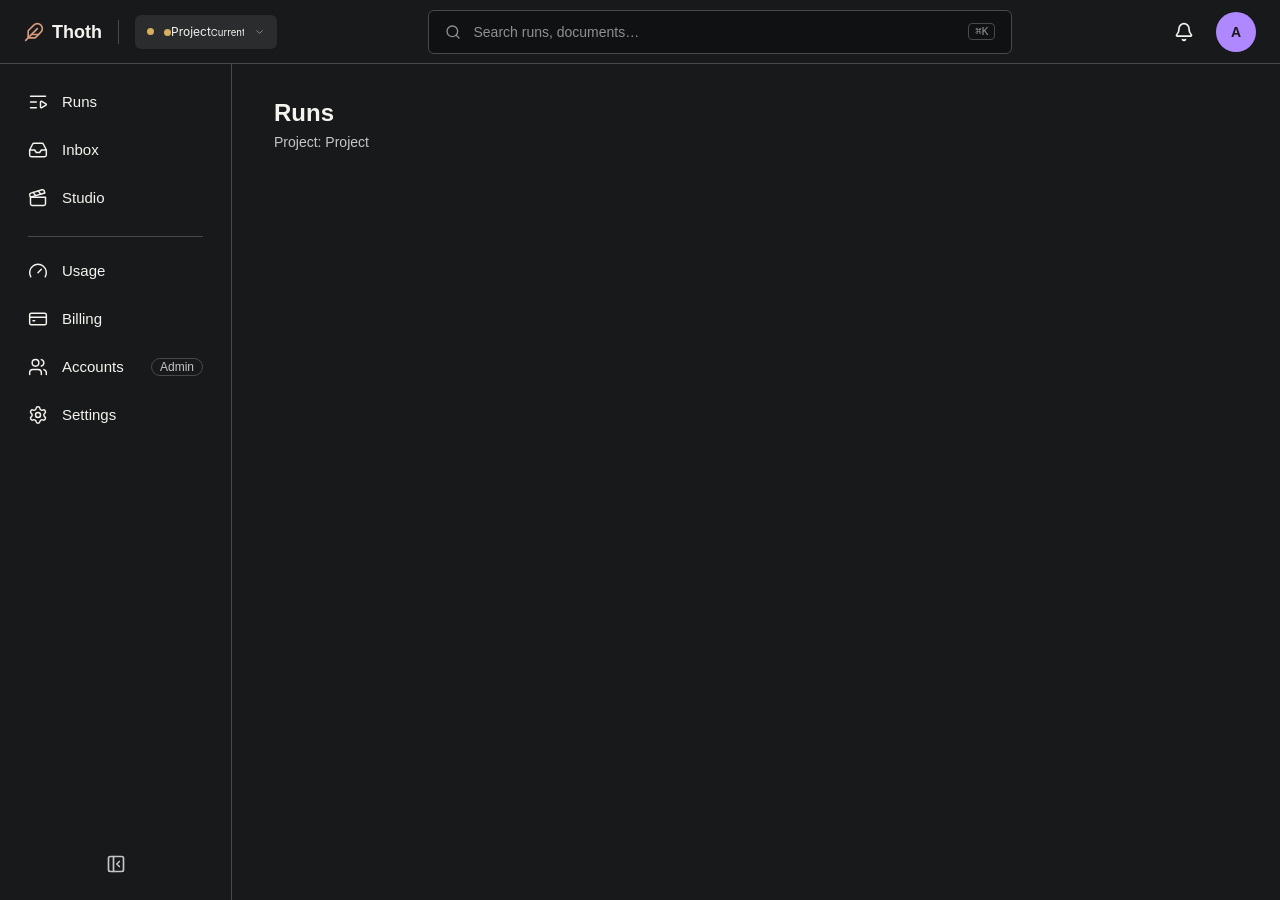
no page reaches the retired Rust server: only control-plane routes are requested
This screenshot has width=1280, height=900.
Click the link "Studio". click: (66, 198)
box: [28, 188, 104, 208]
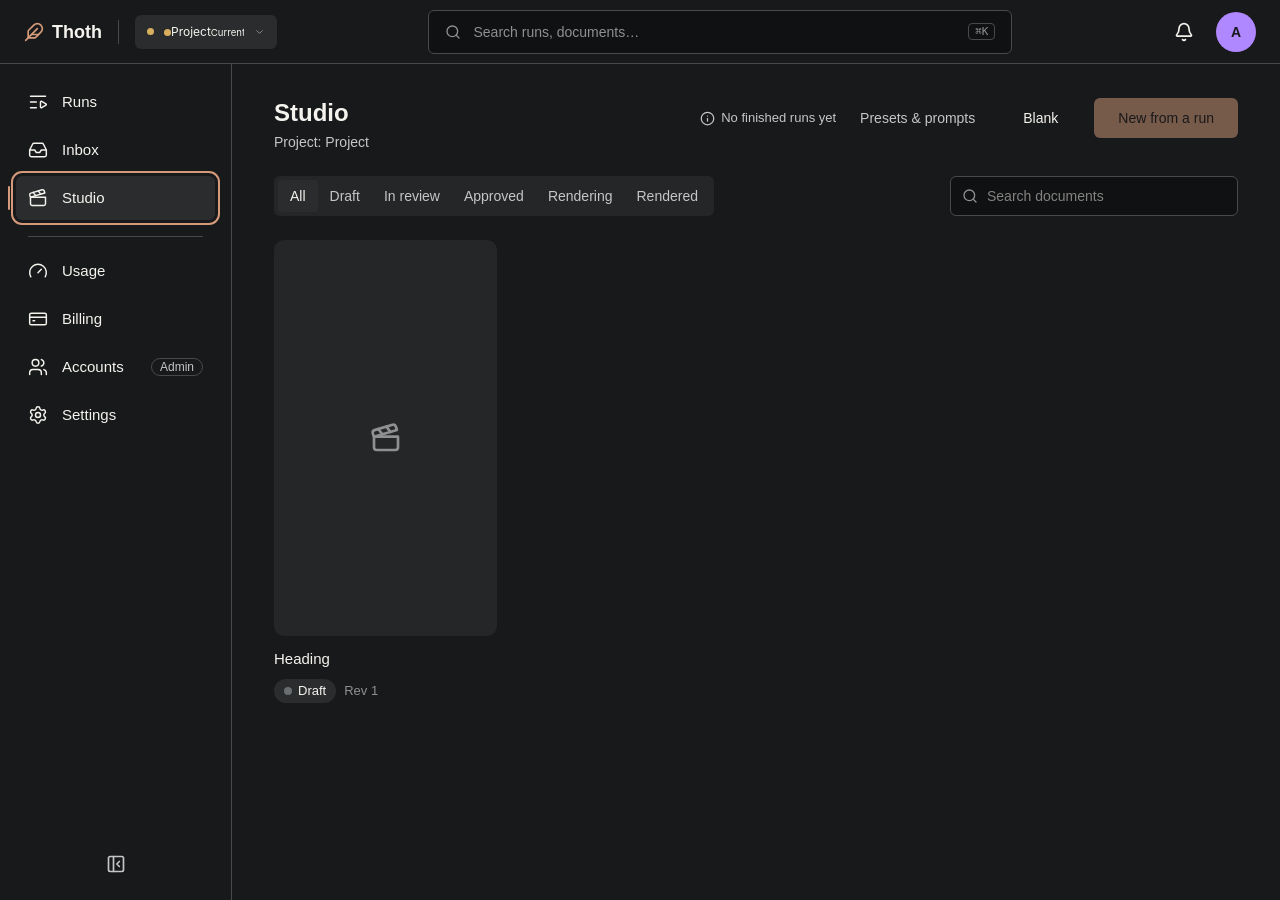
Expected: the link "Heading Draft Rev 1" is shown, [274, 240, 497, 703]
Click the link "Runs". click: (62, 102)
box: [28, 92, 97, 112]
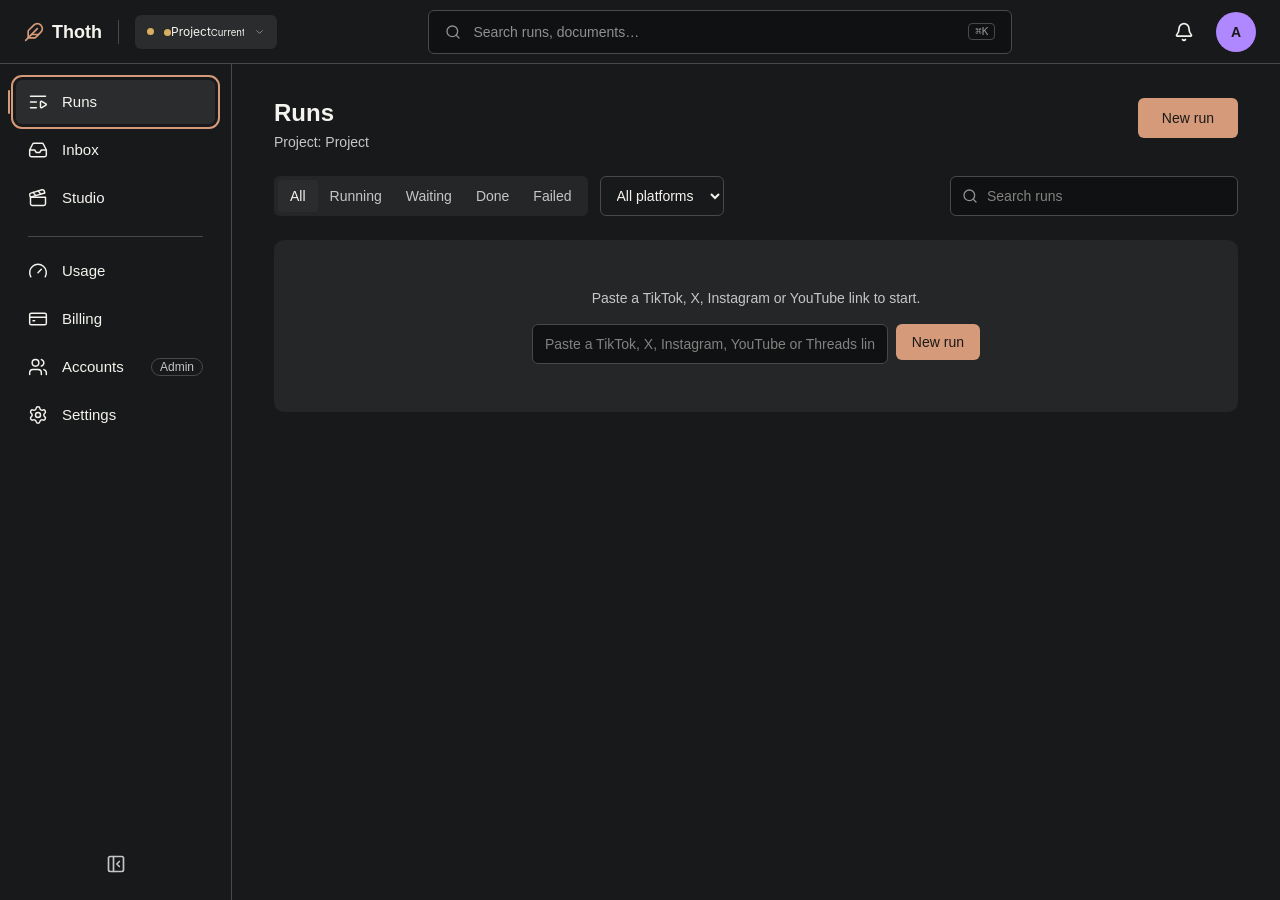
Expected: the heading "Runs" is shown, [274, 99, 334, 126]
